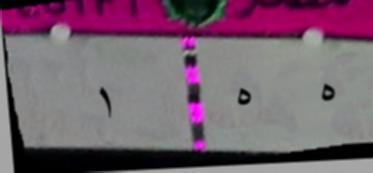1: (94, 79, 119, 124)
haa: (308, 76, 342, 117), (228, 78, 257, 114)
